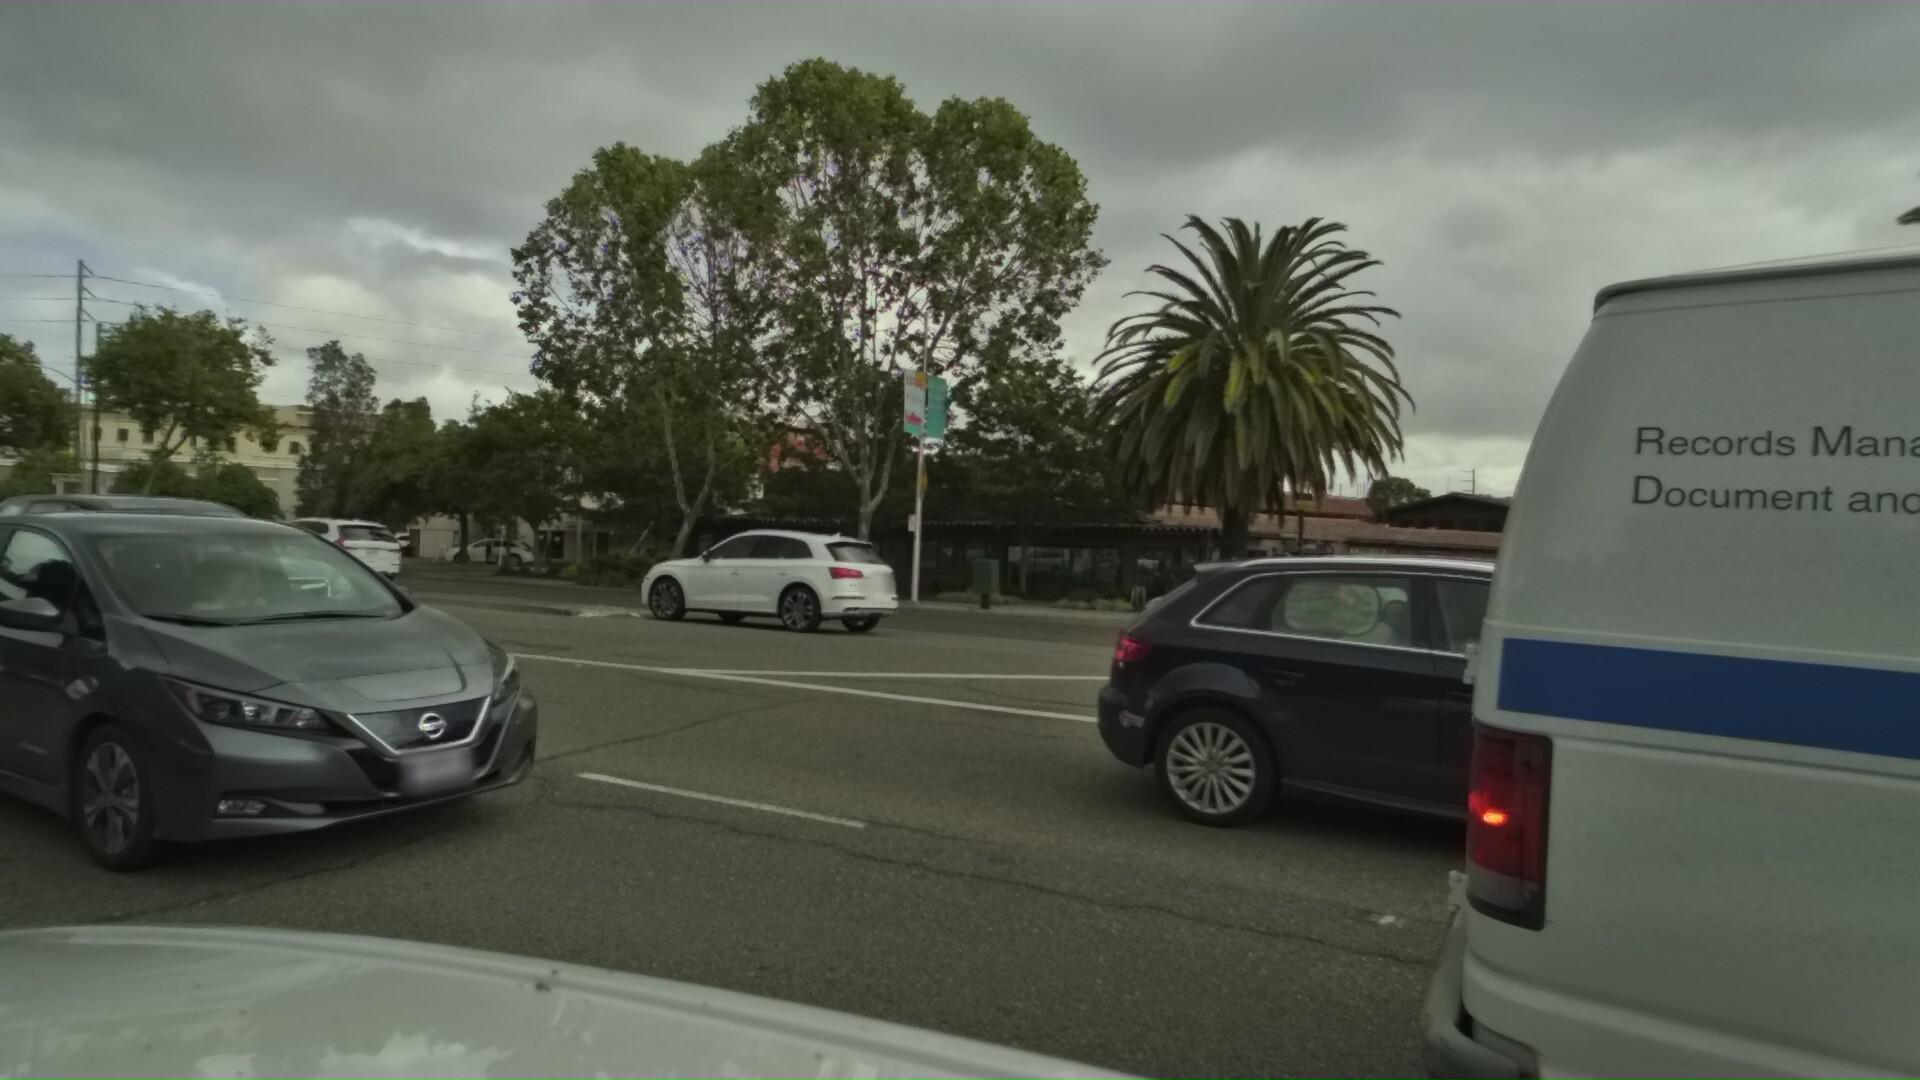car: (1095, 535, 1920, 996), (0, 480, 618, 935), (1319, 534, 1920, 823), (0, 481, 400, 692), (611, 520, 889, 641), (1116, 556, 1356, 654), (223, 512, 407, 593), (0, 479, 88, 611), (1271, 564, 1433, 624), (378, 529, 458, 554)
